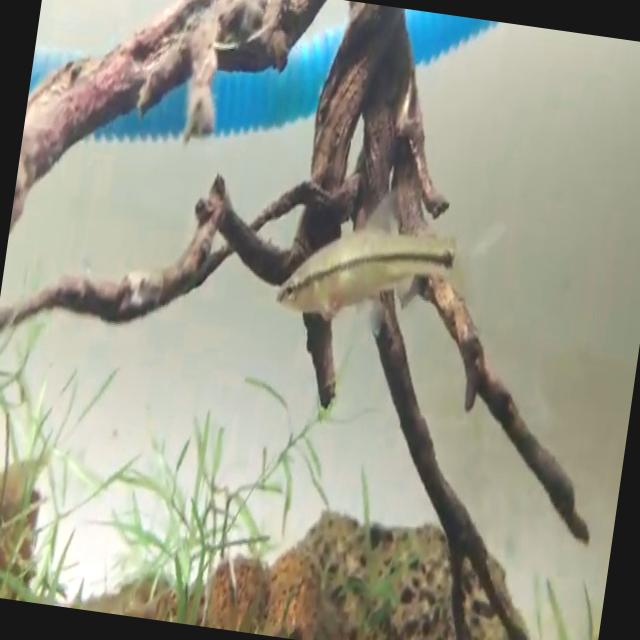Cakil Baligi: (272, 190, 503, 342)
